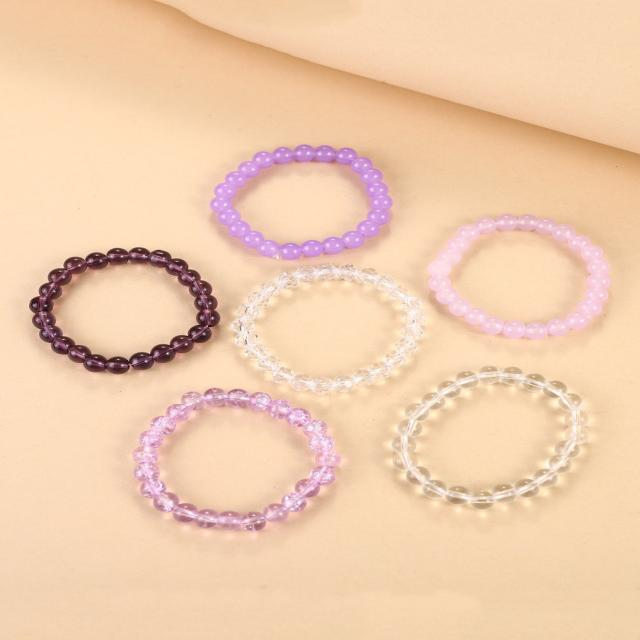bracelet: (180, 77, 418, 280), (402, 159, 634, 352), (207, 232, 445, 419), (0, 205, 232, 372), (360, 338, 585, 508), (136, 379, 382, 532)
